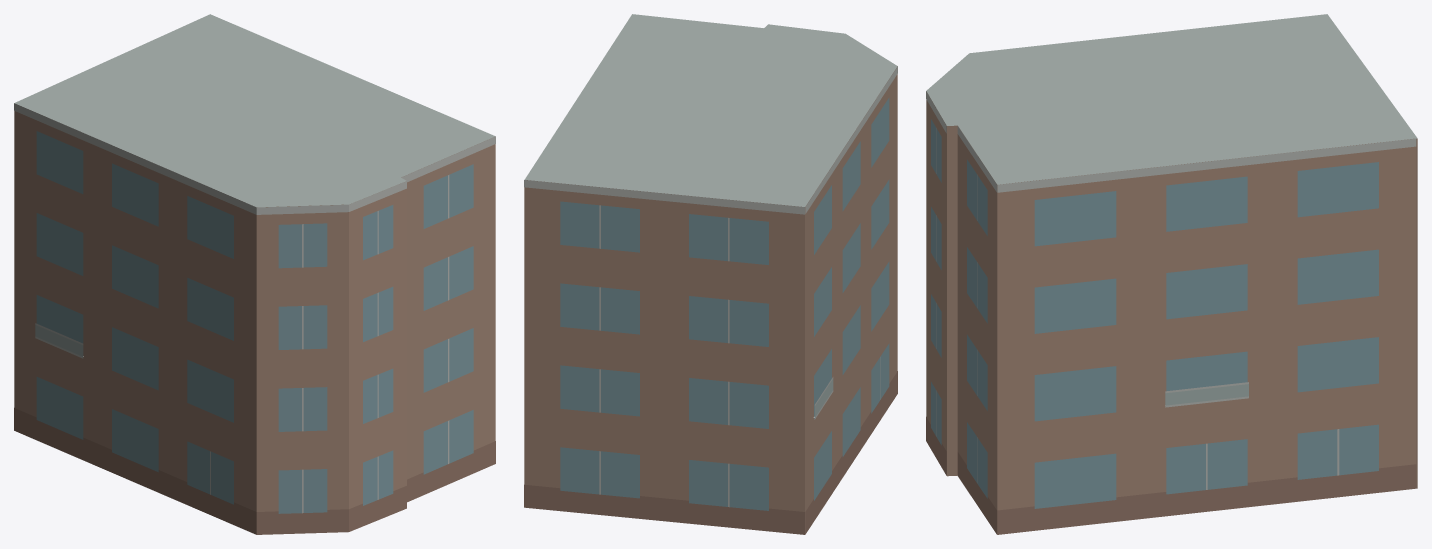
File: survey-upis-32772876.glb
3 views of the same model, side by side, from view 1: azimuth 30°, elevation 25°; view 2: azimuth 150°, elevation 25°; view 3: azimuth 270°, elevation 25° (orthographic). The views are drawn at different scales.
Parts seen in each view (by area): view 1: survey-upis-32772876.tmp; view 2: survey-upis-32772876.tmp; view 3: survey-upis-32772876.tmp.
Part boxes in pixels (<box>): survey-upis-32772876.tmp: <box>14,14,495,534</box>; survey-upis-32772876.tmp: <box>524,14,897,534</box>; survey-upis-32772876.tmp: <box>926,14,1417,534</box>.
Size of the model in its own units: 11.04 by 10.55 by 13.43.
